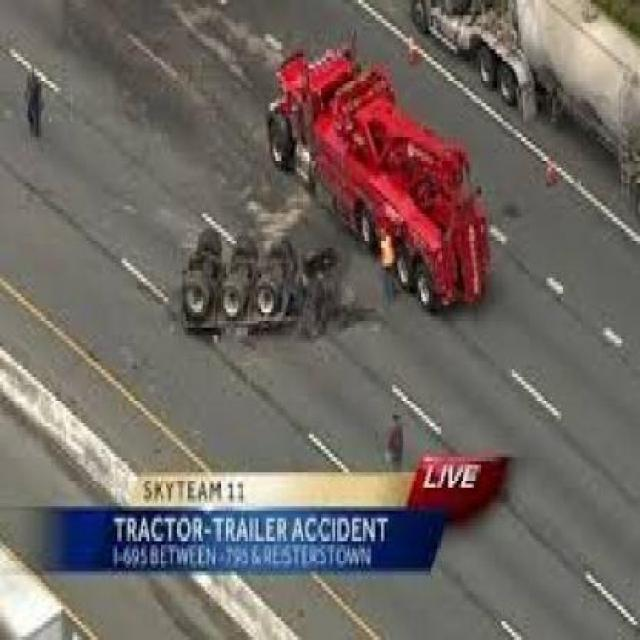accident: (144, 173, 370, 418)
